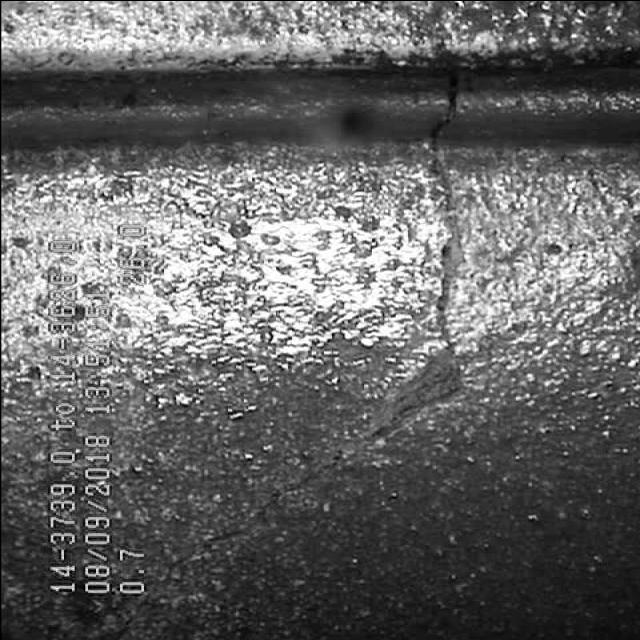Crack: (280, 187, 496, 541)
